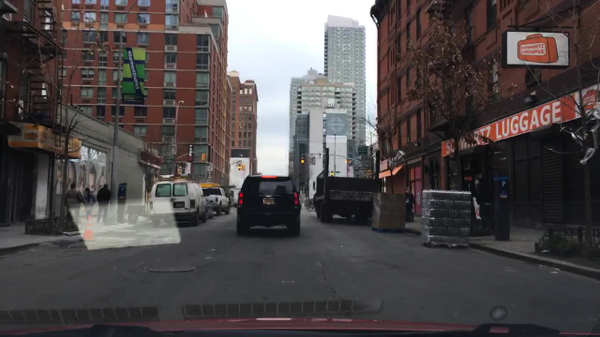bike: (304, 200, 316, 212)
car: (236, 176, 301, 234), (146, 181, 206, 226), (201, 184, 231, 214), (222, 186, 235, 207)
person: (475, 174, 496, 232), (65, 181, 82, 223), (96, 183, 110, 224), (405, 185, 416, 223), (83, 188, 93, 218)
traffic light: (176, 165, 183, 176), (299, 155, 305, 164), (201, 153, 206, 162), (346, 158, 352, 165)
truck: (312, 170, 373, 223)
